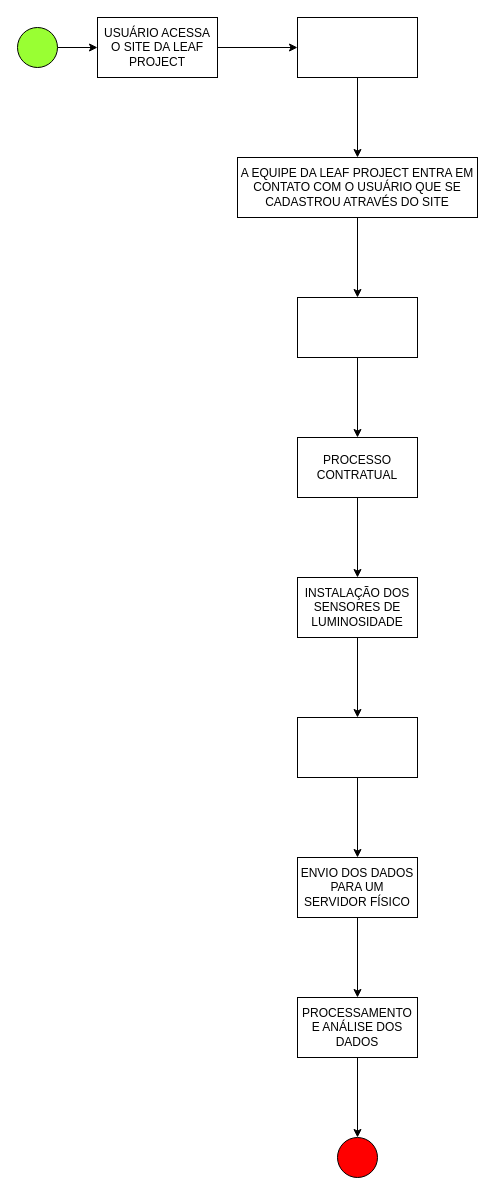
This 495x1195 diagram has some shape labels left out. Here are the shapes that lost their labels. From the top down, the centre of each, then its label:
the point at 357,47: SE CADASTRA
the point at 357,327: AGENDAMOS UMA VISITA PARA ANALISAR A ESTUFA
the point at 357,747: COLETA DE DADOS DOS SENSORES
